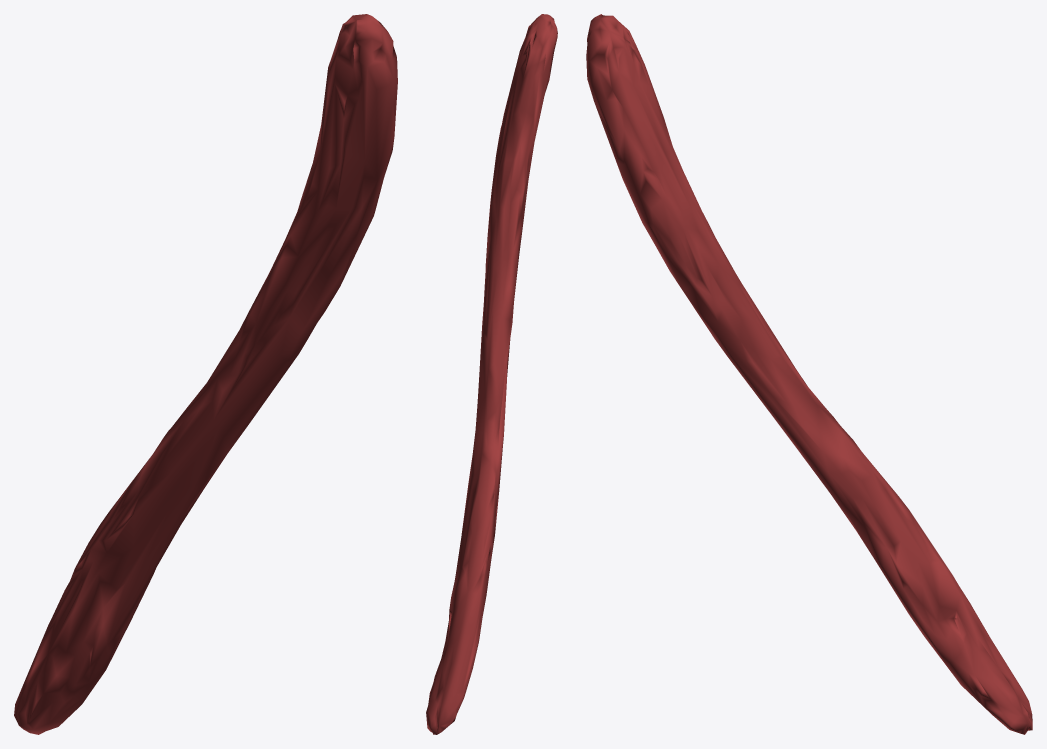
Rendered from ary-epiglottic-part-of-oblique-arytenoid-muscle-l.glb.
The picture shows the model from 3 angles, left to right: view 1: azimuth 30°, elevation 25°; view 2: azimuth 150°, elevation 25°; view 3: azimuth 270°, elevation 25°; orthographic projection. The views are drawn at different scales.
Parts seen in each view (by area): view 1: Ary-epiglottic part of oblique arytenoid muscle.l; view 2: Ary-epiglottic part of oblique arytenoid muscle.l; view 3: Ary-epiglottic part of oblique arytenoid muscle.l.
Part boxes in pixels (x1,y1,x2,y2): Ary-epiglottic part of oblique arytenoid muscle.l: [14, 14, 397, 734]; Ary-epiglottic part of oblique arytenoid muscle.l: [426, 14, 557, 734]; Ary-epiglottic part of oblique arytenoid muscle.l: [586, 14, 1032, 734].
Size of the model in its own units: 0.00424 by 0.0234 by 0.0126.
